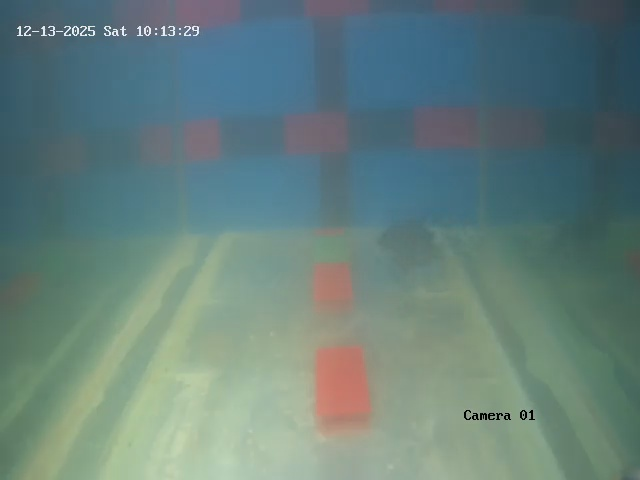fish: (376, 218, 458, 271)
